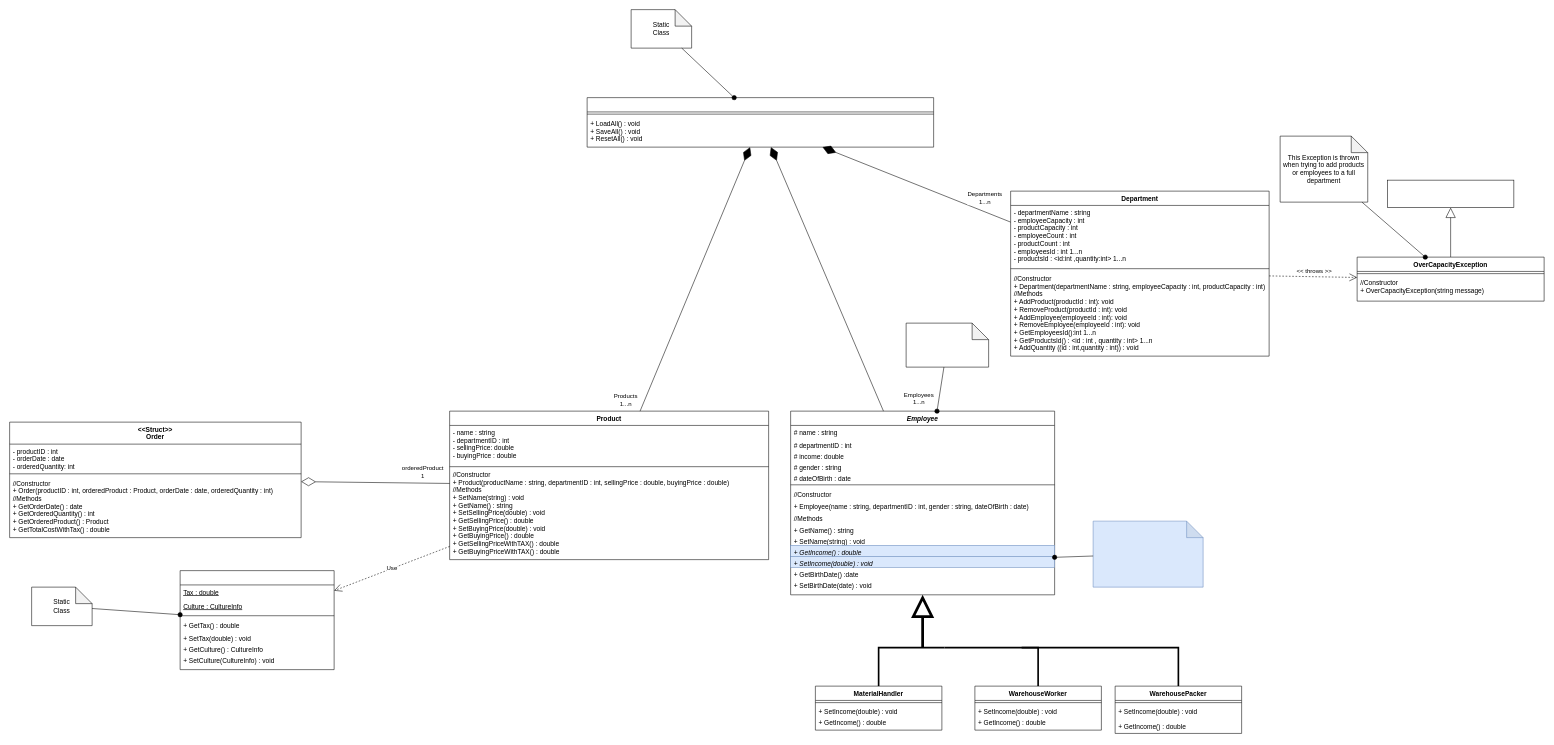
The diagram is 1554 pixels wide and 745 high, and some of its shapes have lost their labels. The shapes that lost their labels are listed below. From the top down, each one's box as (x1, y1, x2, y2) in pixels, then its label:
(587, 97, 934, 147): Data
(1387, 180, 1514, 208): System.ApplicationException
(906, 323, 989, 367): Abstract Class
(1093, 521, 1203, 587): Abstract Methods GetSalary() : double SetSalary(double) : void
(180, 570, 334, 670): SettingsParams
